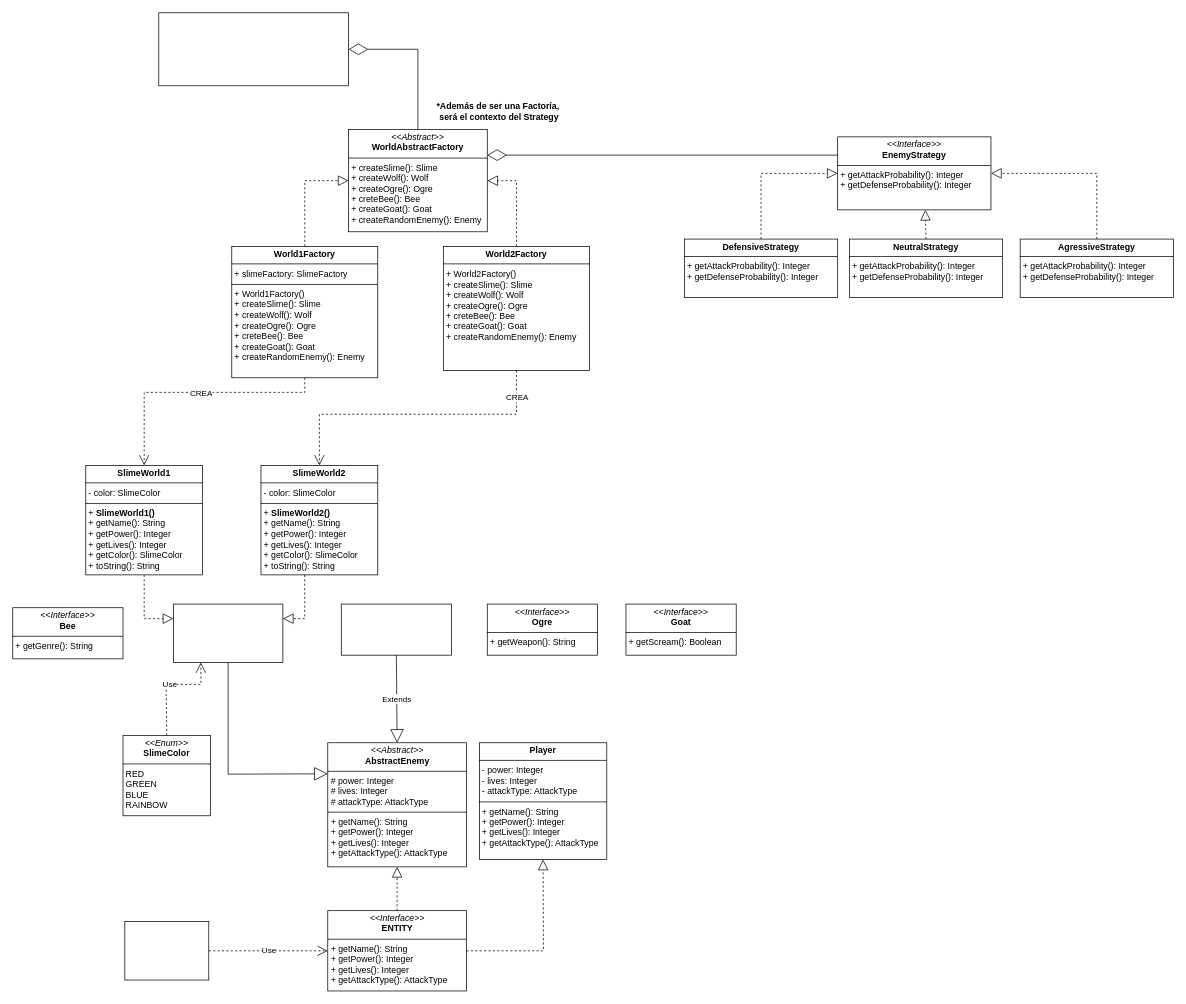
The diagram is 1186 pixels wide and 1004 high, and some of its shapes have lost their labels. The shapes that lost their labels are listed below. From the top down, each one's centre as x and y in pixels, then its label:
At [253,49]: "GameController + worldAbstractFactory: WorldAbstractFactory + method(): Type".
At [228,632]: "<<Abstract>> Slime + getColor(): String + turn()".
At [396,629]: "<<Interface>> Wolf + getAlfa(): String".
At [166,950]: "<<Enum>> AttackType RANGE MELEE".
